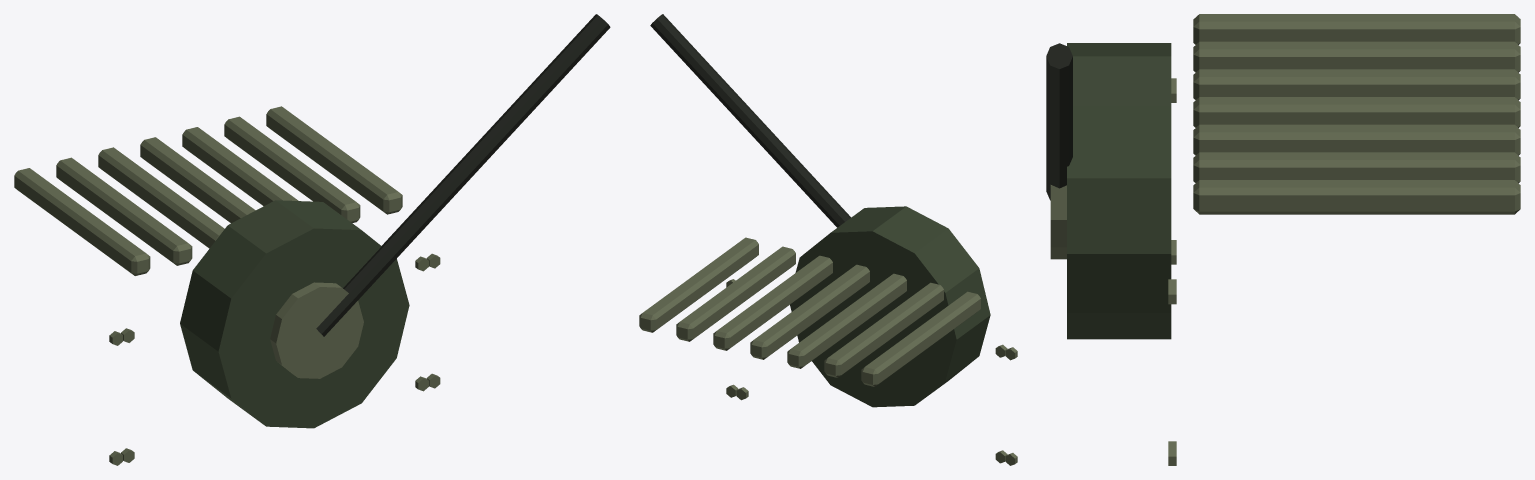
Rendered from detail_pumpjack.obj.
The picture shows the model from 3 angles, left to right: view 1: azimuth 30°, elevation 25°; view 2: azimuth 150°, elevation 25°; view 3: azimuth 270°, elevation 25°; orthographic projection. The views are drawn at different scales.
Parts seen in each view (by area): view 1: detail_pumpjack; view 2: detail_pumpjack; view 3: detail_pumpjack.
Part boxes in pixels (left/top/right/bottom): detail_pumpjack: left=14, top=14, right=610, bottom=465; detail_pumpjack: left=639, top=14, right=1017, bottom=465; detail_pumpjack: left=1046, top=14, right=1520, bottom=465.
Bounding box in the file's own units: 2.39 × 1.87 × 1.59.
Materials: 1 (1 with a texture image).
